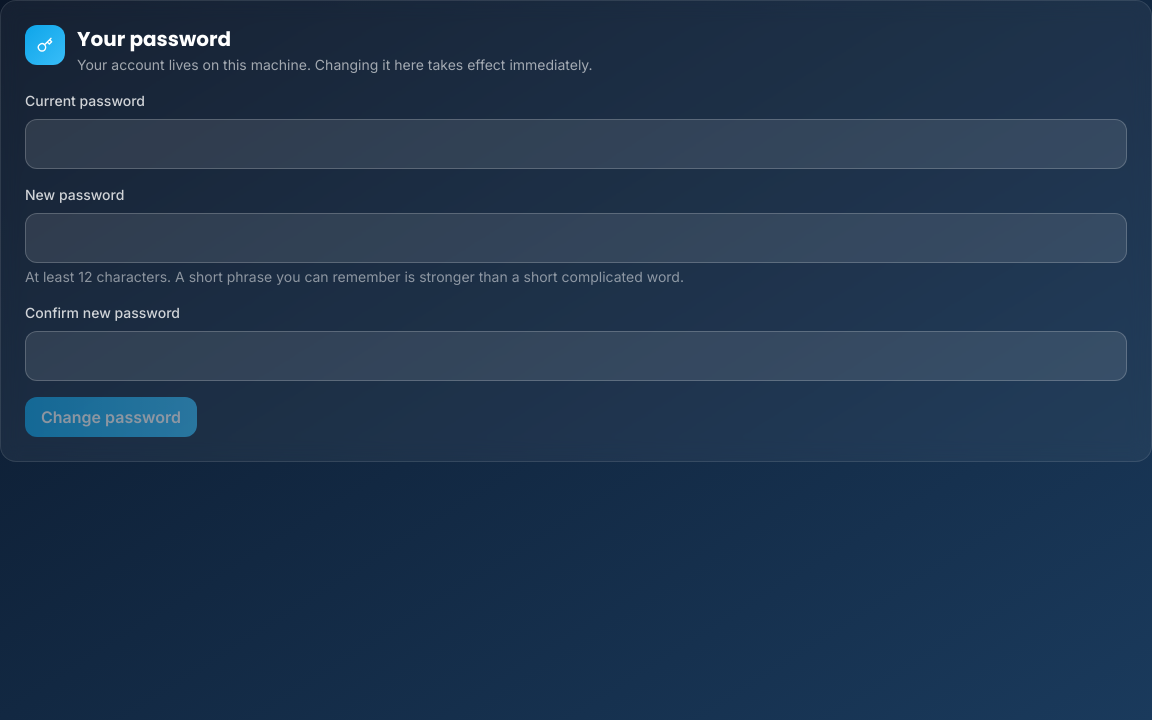
Scenario: changing your own password › surfaces the server’s reason rather than inventing one
This screenshot has width=1152, height=720.
In the password field labelled "Current password": (576, 144) [25,119,1127,169], type "wrong old passphrase"
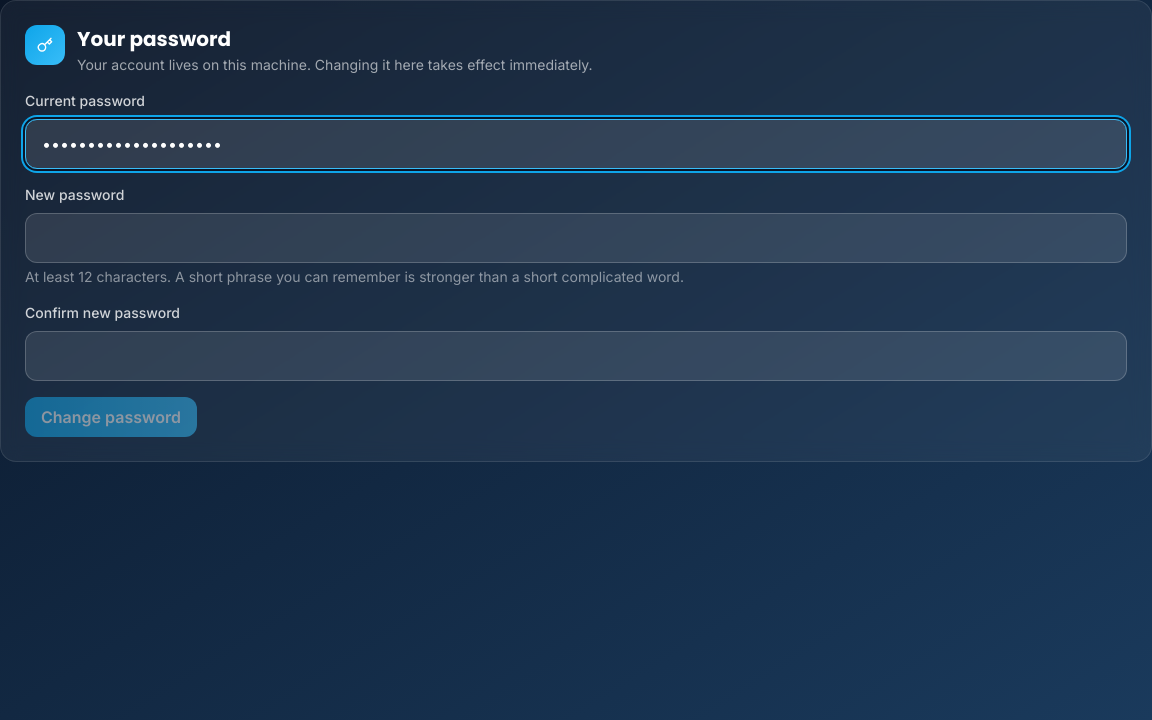
In the password field labelled "New password": (576, 238) [25,213,1127,263], type "my brand new passphrase"
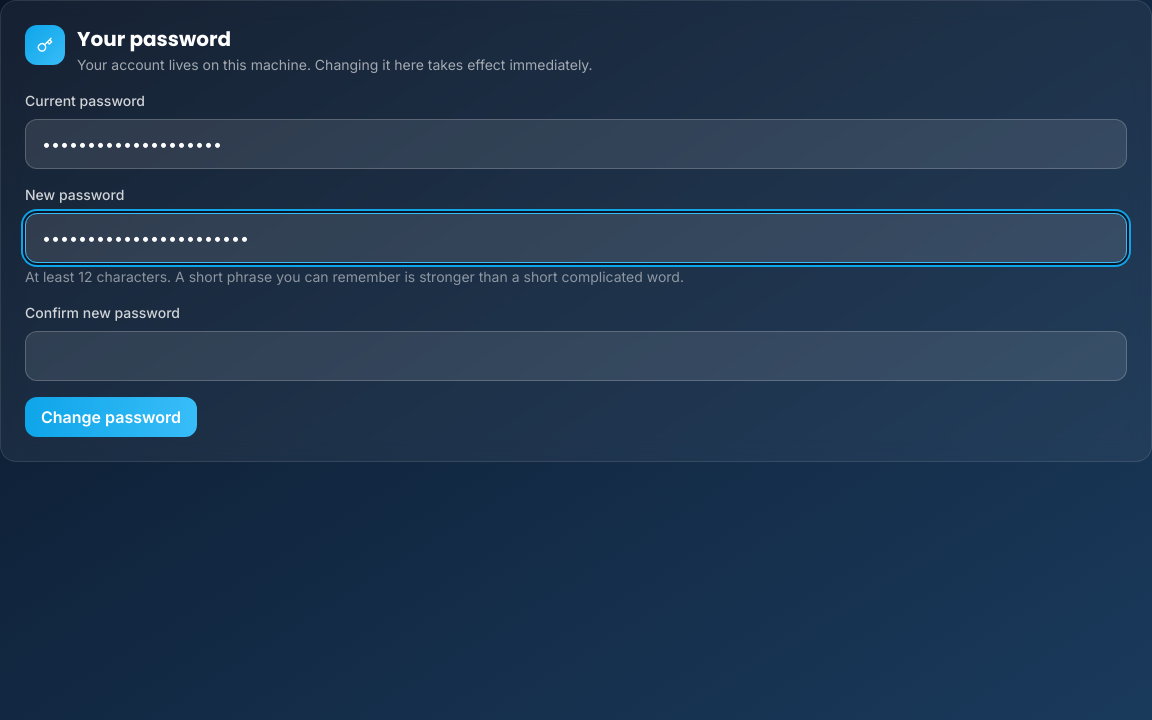
In the password field labelled "Confirm new password": (576, 356) [25,331,1127,381], type "my brand new passphrase"
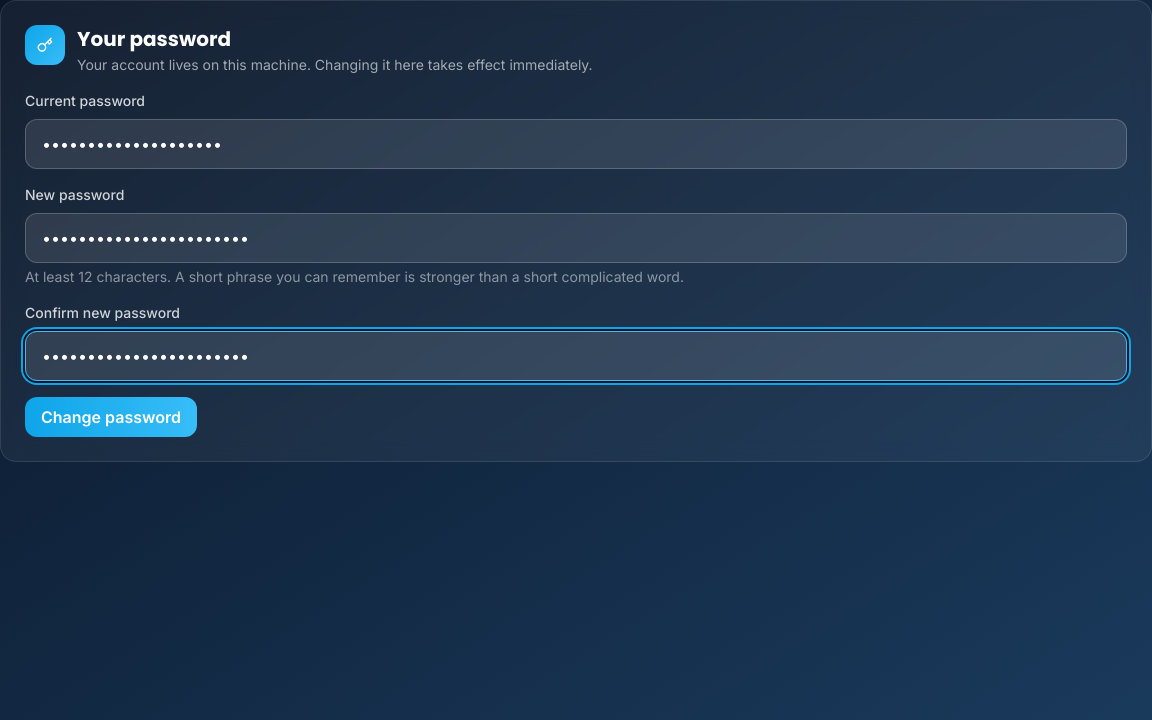
Click the button "Change password": (111, 417) [25,397,197,437]
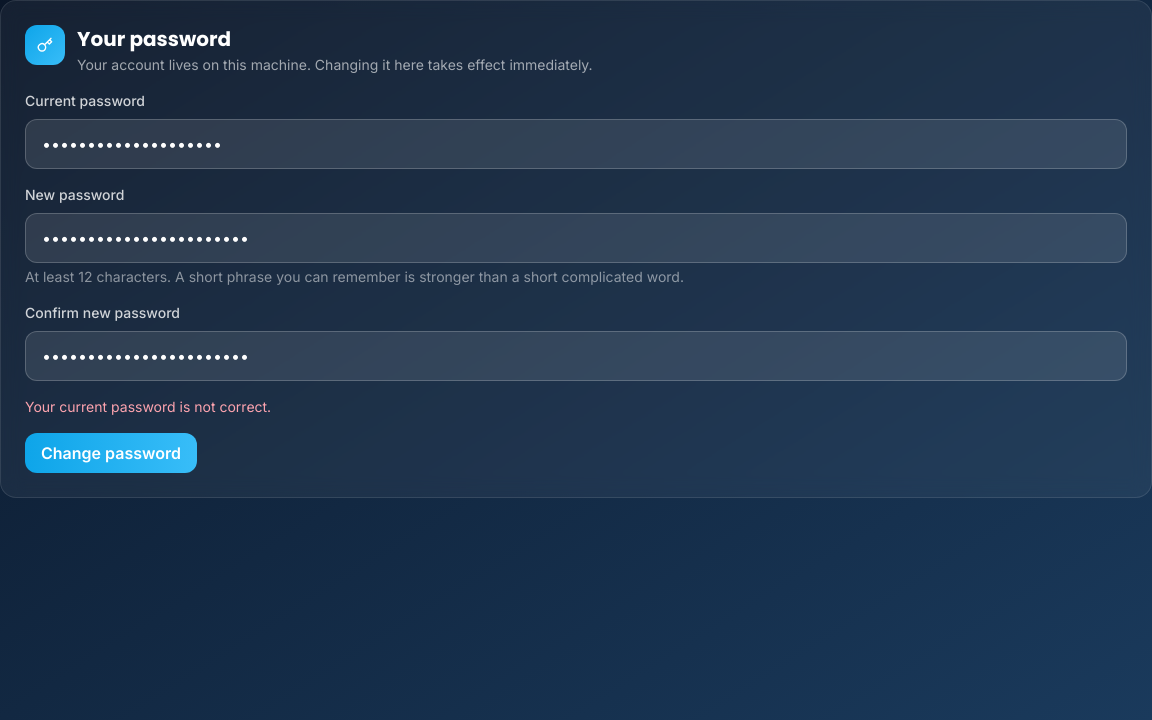
Now the message shows "current password is not correct", box [25,398,271,415]
